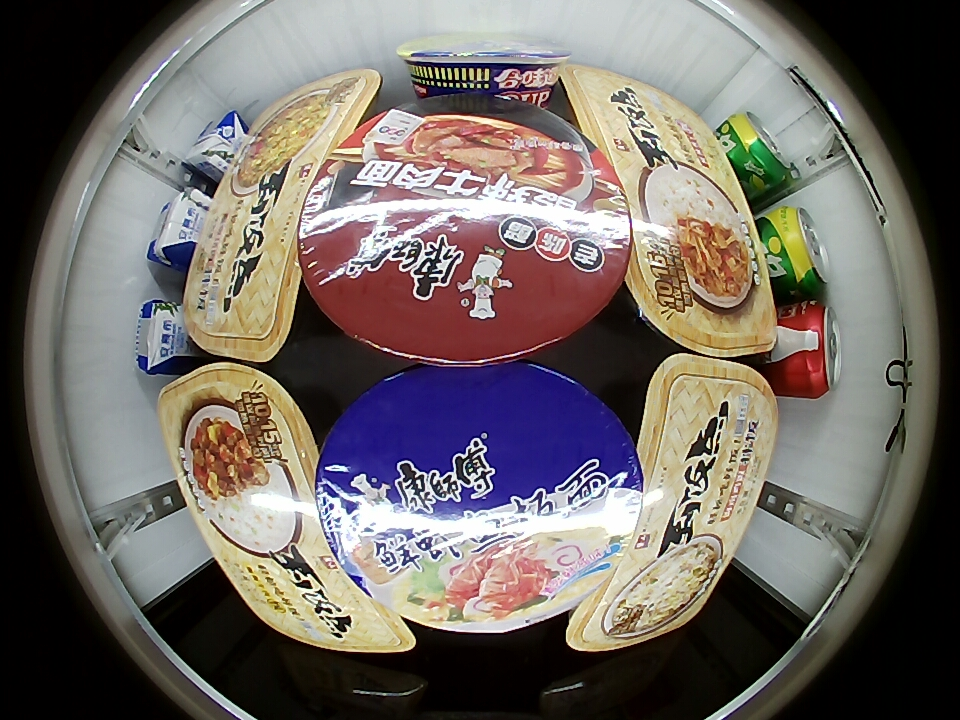anmuxi: (146, 187, 210, 271), (184, 110, 248, 177), (135, 299, 186, 375)
daofandian1: (584, 355, 779, 653)
daofandian2: (159, 363, 401, 655)
daofandian3: (182, 66, 374, 364)
daofandian4: (565, 64, 779, 356)
heweidao: (395, 36, 572, 96)
kele: (787, 301, 842, 399)
suanlaniurou: (296, 95, 630, 363)
xianxiayuban: (314, 360, 647, 636)
xuebi2: (720, 110, 793, 191), (769, 205, 831, 295)
